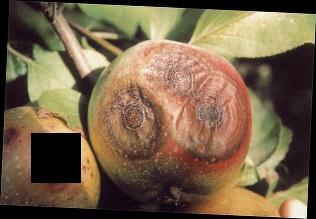rotten apple: (87, 41, 251, 207), (3, 105, 102, 207)
